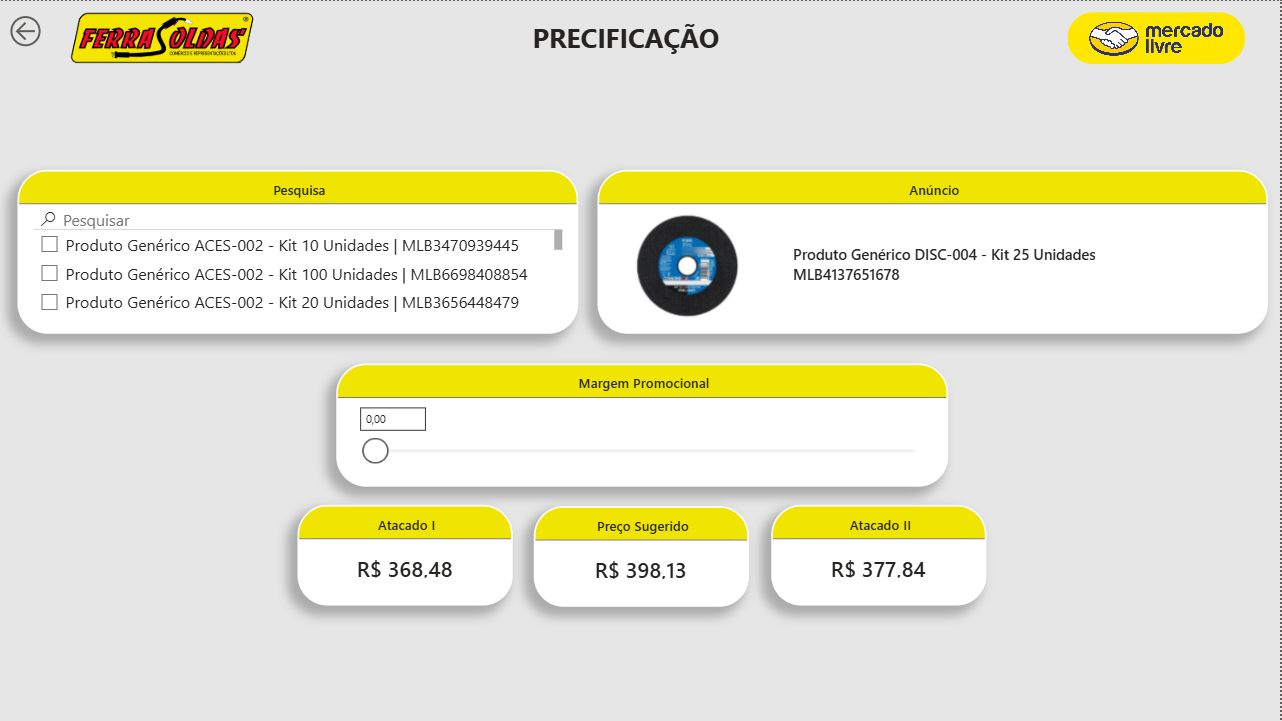

The dashboard page shown, as its layout file describes it:
{"tool":"powerbi","page":{"name":"Precificação","canvas":[1280,720],"ordinal":1},"visuals":[{"type":"cardVisual","title":"Anúncio","fields":{"Data":["dim_produtos.anuncio (display)"]},"box":[597.6,168.2,670.5,164.2],"z":0},{"type":"slicer","title":"Pesquisa","fields":{"Values":["fact_anuncios.pesquisa (display)"]},"box":[17.4,168.6,560.5,164],"z":1000},{"type":"actionButton","box":[0,6.2,51,47.3],"z":2000},{"type":"image","box":[1067.3,11.2,177.9,52.2],"z":3000},{"type":"image","box":[65.9,3.7,195.3,67.2],"z":4000},{"type":"textbox","box":[390.6,13.7,471.5,47.3],"z":5000},{"type":"cardVisual","title":"Preço Sugerido","fields":{"Data":["fact_anuncios.preco sugerido"]},"box":[533.7,518.7,215.2,100.8],"z":6000},{"type":"cardVisual","title":"Atacado I","fields":{"Data":["fact_anuncios.preco atacado I (display)"]},"box":[297.3,517.4,215.2,100.8],"z":7000},{"type":"cardVisual","title":"Atacado II","fields":{"Data":["fact_anuncios.preco atacado II (display)"]},"box":[771.2,517.4,215.2,100.8],"z":8000},{"type":"slicer","title":"Margem Promocional","fields":{"Values":["parametro margem extra.parametro margem extra"]},"box":[336.4,362.2,612,123.2],"z":9000},{"type":"simpleImageEBC4593F96F1425FB3D84C5BF02B5075","fields":{"imageURL":["fact_anuncios.imagem"]},"box":[627.9,204.7,120.9,120],"z":10000}]}

Visuals, with their boxes in screenshot pixels (x1, y1, x2, y2), scaled from the page's 1280x720 canvas onto the 1282x721 screenshot:
"Anúncio" cardVisual: left=599, top=168, right=1270, bottom=333
"Pesquisa" slicer: left=17, top=169, right=579, bottom=333
actionButton: left=0, top=6, right=51, bottom=54
image: left=1069, top=11, right=1247, bottom=63
image: left=66, top=4, right=262, bottom=71
textbox: left=391, top=14, right=863, bottom=61
"Preço Sugerido" cardVisual: left=535, top=519, right=750, bottom=620
"Atacado I" cardVisual: left=298, top=518, right=513, bottom=619
"Atacado II" cardVisual: left=772, top=518, right=988, bottom=619
"Margem Promocional" slicer: left=337, top=363, right=950, bottom=486
simpleImageEBC4593F96F1425FB3D84C5BF02B5075 - fact_anuncios.imagem: left=629, top=205, right=750, bottom=325
